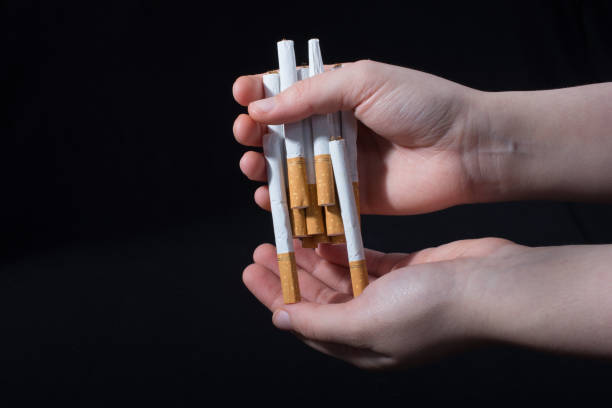cigarette: (261, 132, 303, 307), (328, 137, 370, 298), (276, 37, 310, 210), (307, 37, 337, 207), (340, 107, 362, 231), (261, 70, 284, 134), (306, 181, 325, 236), (324, 206, 345, 237), (292, 207, 306, 240), (297, 67, 310, 81)
